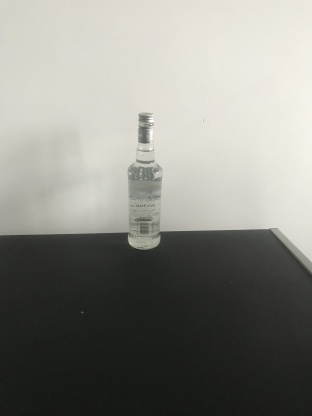nakretka: (136, 111, 155, 143)
